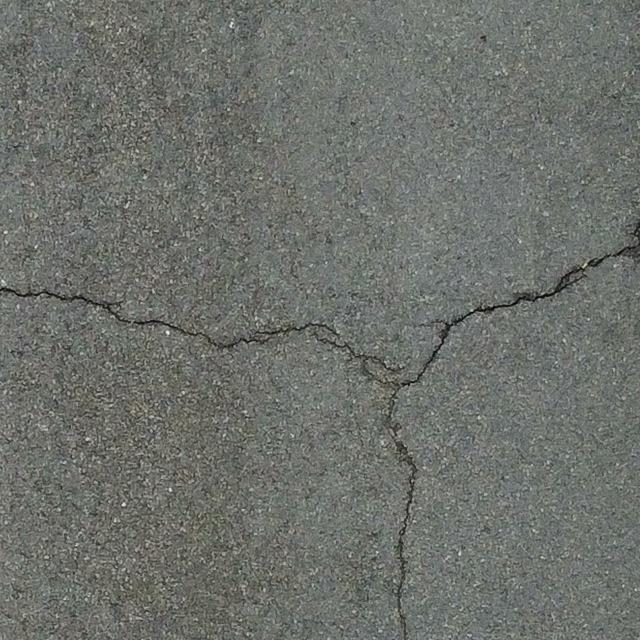LongitudinalCrack: (384, 388, 420, 640)
TransverseCrack: (1, 285, 405, 375), (402, 247, 640, 386)
